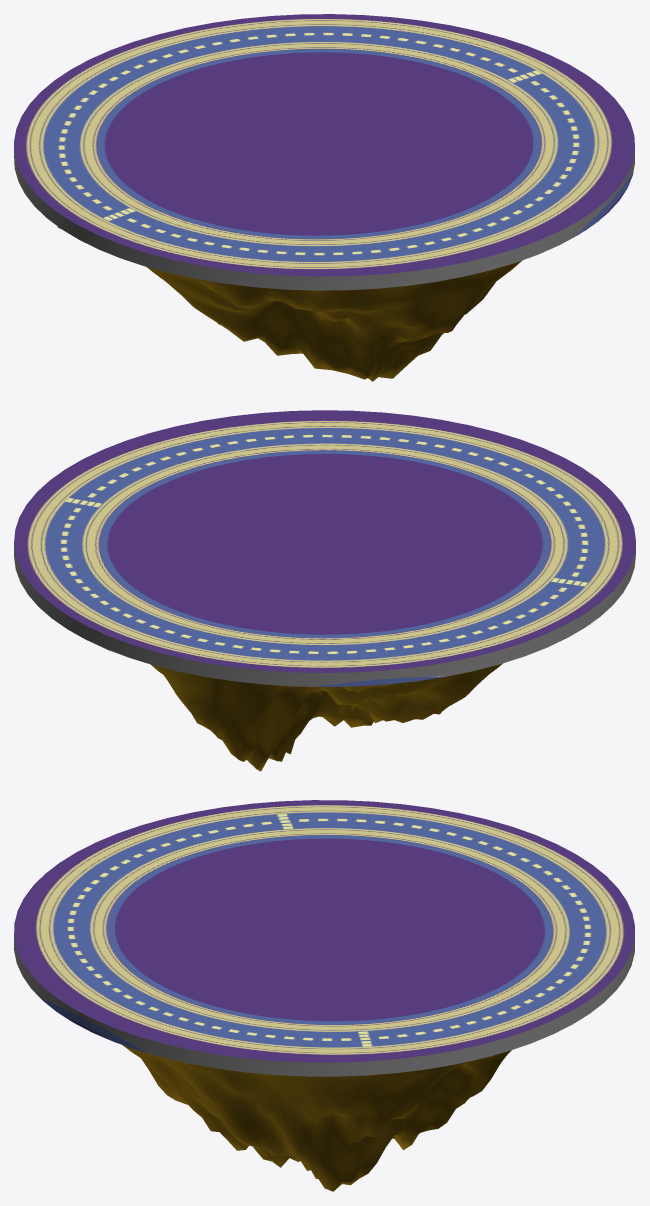
The model's file is base-notex-noshader.glb.
3 renders of one model, top to bottom at view 1: azimuth 30°, elevation 25°; view 2: azimuth 150°, elevation 25°; view 3: azimuth 270°, elevation 25°, orthographic.
Visible parts, largest first — view 1: Disc, Landscape; view 2: Disc, Landscape; view 3: Disc, Landscape.
Boxes of the visible parts, x1,y1,x2,y2 form: Disc: (14,14,634,290); Landscape: (57,221,598,381); Disc: (14,410,635,686); Landscape: (108,624,590,771); Disc: (14,800,634,1076); Landscape: (123,1045,511,1191).
Size of the model in its own units: 5 by 2.01 by 5.
Materials: 2 (1 with a texture image).
